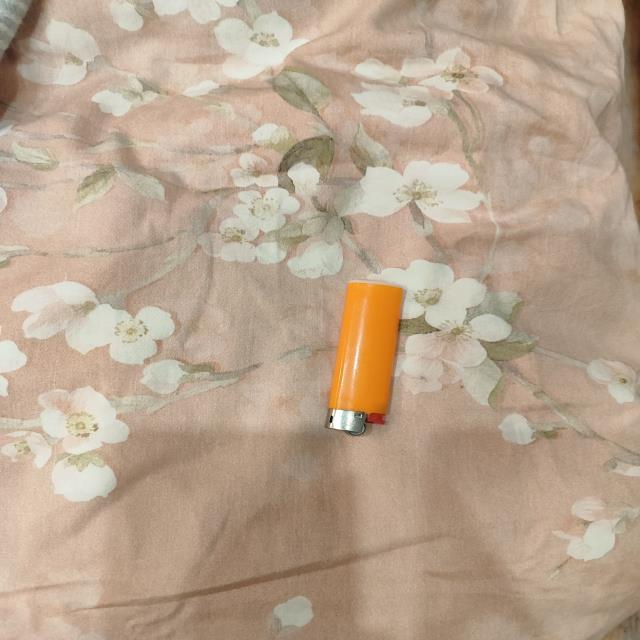lighter: (326, 281, 402, 435)
